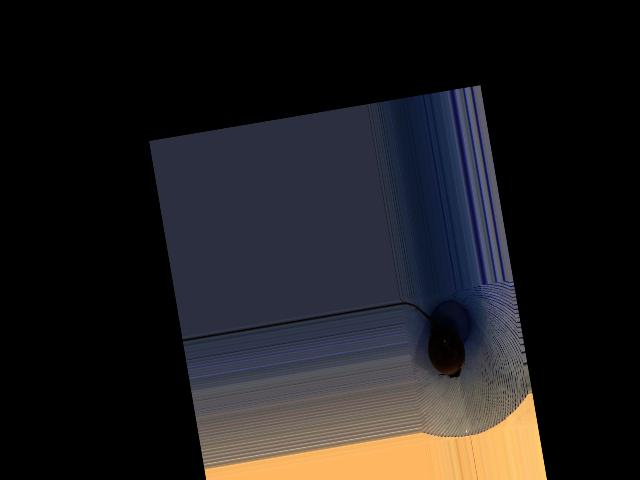beet: (399, 294, 468, 385)
